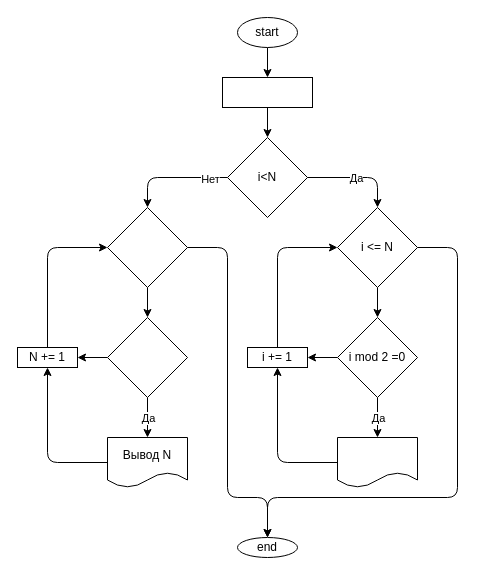
Image size: 483x575. Some labels were removed from this diagram. The shapes that lost their labels are listed below. From the top down, each one's centre as x and y in pixels, then its label:
At [267,92]: "N = 10 i = 1".
At [147,247]: "N <= i".
At [147,357]: "N mod 2 =0".
At [377,462]: "Вывод i".
